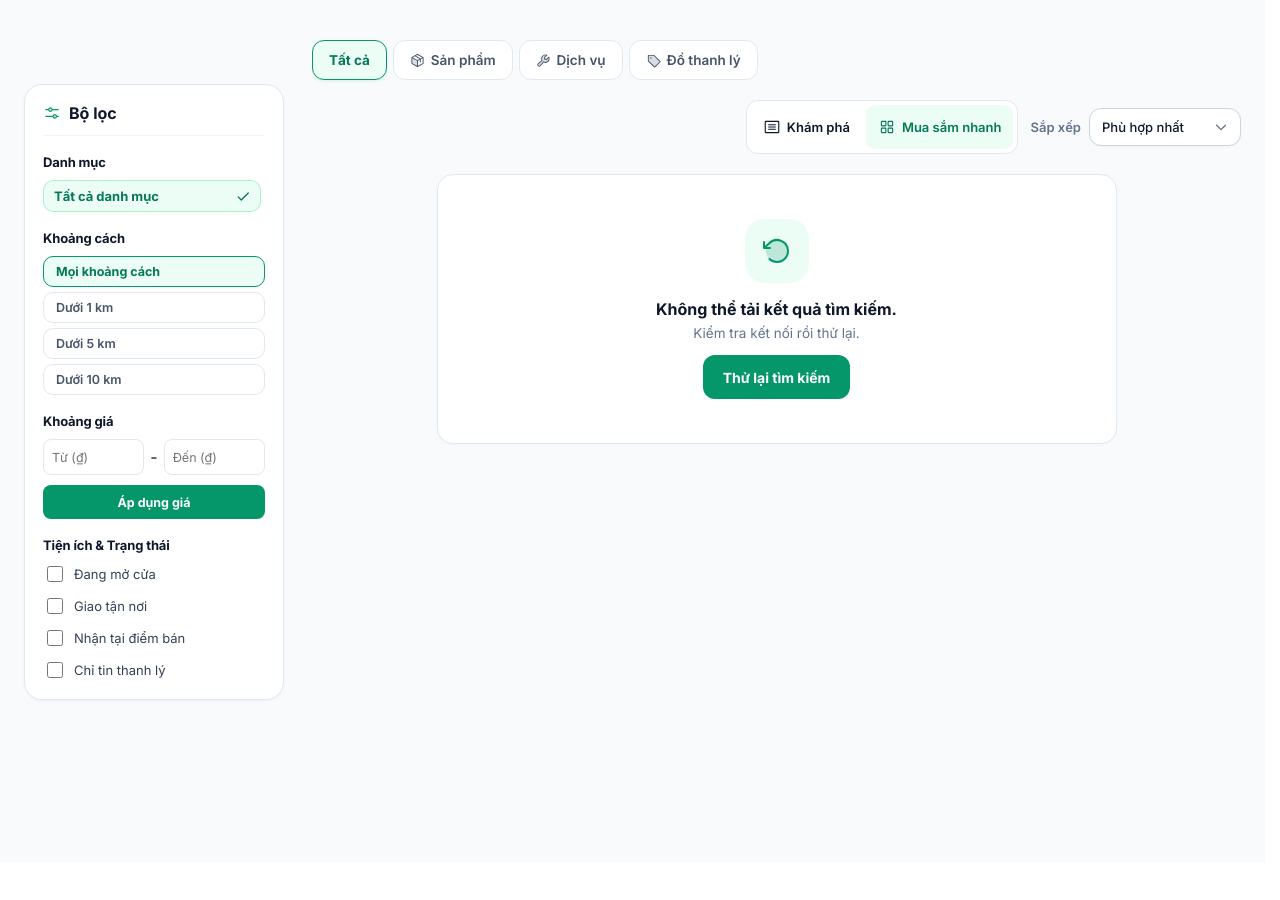
Test case: PUB-003/004 Search › shows a retryable Results error without losing the active query
The image size is (1280, 900).
Expected: the text "Không thể tải kết quả tìm kiếm." is shown, [656,299,897,319]
Click the button "Thử lại tìm kiếm" at (777, 377), box [703,355,850,399]
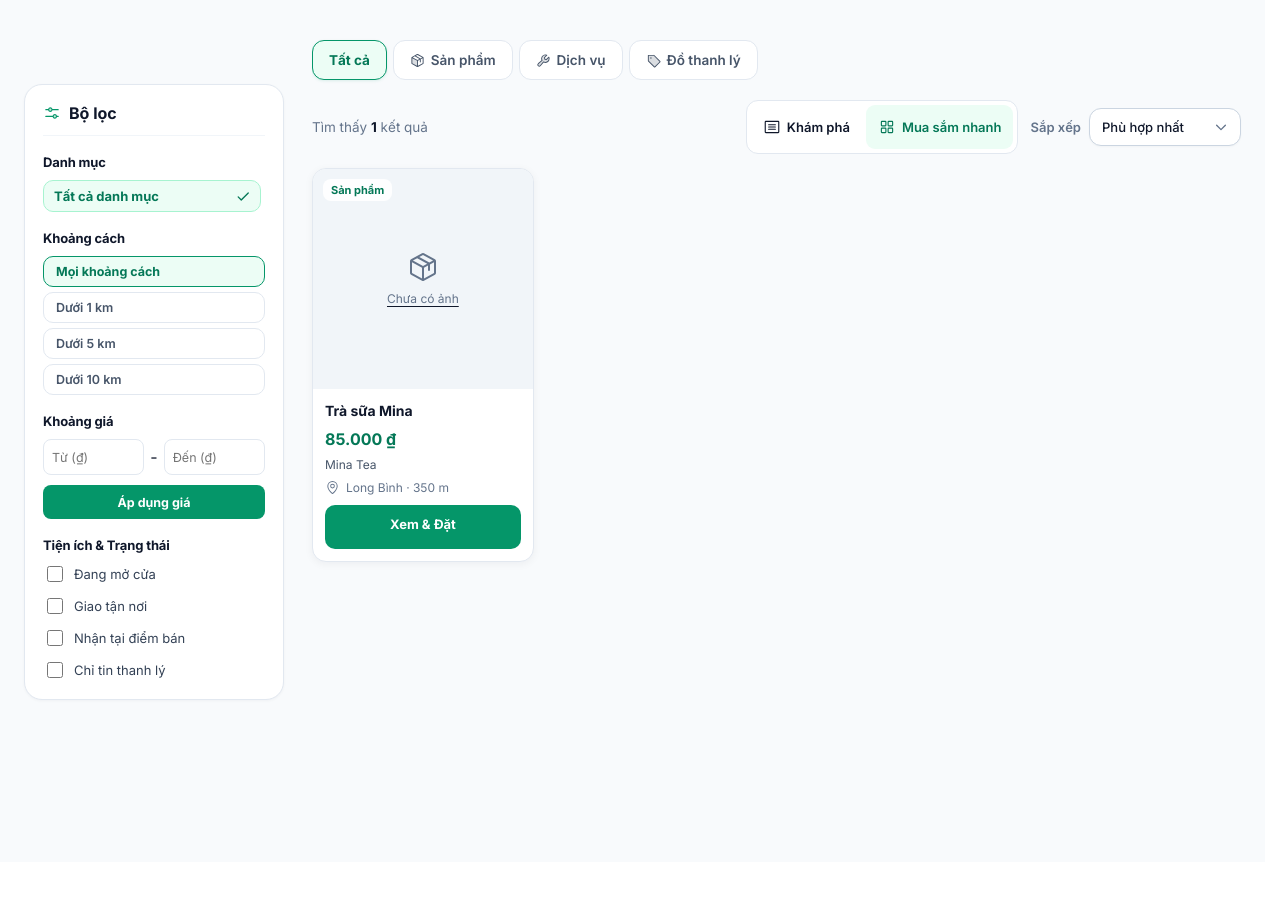
Expected: the link "Trà sữa Mina" is shown, [325,402,413,419]
